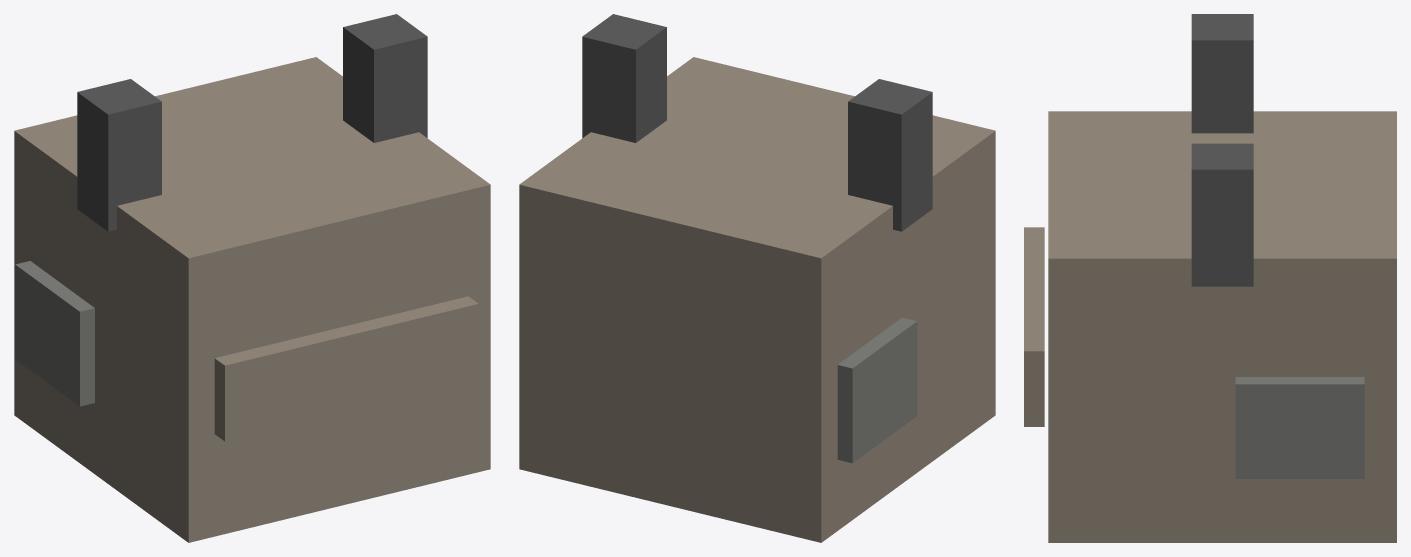
File: head_iron.glb
3 renders of one model, left to right at view 1: azimuth 30°, elevation 25°; view 2: azimuth 150°, elevation 25°; view 3: azimuth 270°, elevation 25°, orthographic.
Parts seen in each view (by area): view 1: geometry_0, geometry_1, geometry_4, geometry_3, geometry_2; view 2: geometry_0, geometry_4, geometry_3, geometry_2; view 3: geometry_0, geometry_2, geometry_3, geometry_4, geometry_1.
Part boxes in pixels (x1,y1,x2,y2): geometry_0: (14, 57, 490, 542); geometry_1: (214, 296, 478, 441); geometry_4: (77, 79, 161, 231); geometry_3: (343, 14, 427, 142); geometry_2: (15, 261, 94, 406); geometry_0: (519, 57, 995, 542); geometry_4: (848, 79, 932, 231); geometry_3: (582, 14, 666, 142); geometry_2: (837, 317, 917, 463); geometry_0: (1048, 111, 1396, 542); geometry_2: (1235, 377, 1364, 478); geometry_3: (1191, 143, 1253, 286); geometry_4: (1191, 14, 1253, 133); geometry_1: (1024, 227, 1044, 426).
Size of the model in its own units: 0.7425 by 0.8068 by 0.722.
